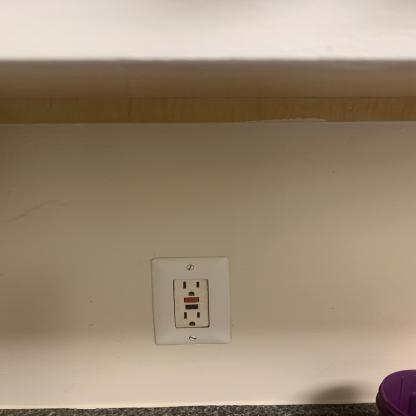OUTLET: (150, 257, 232, 345)
